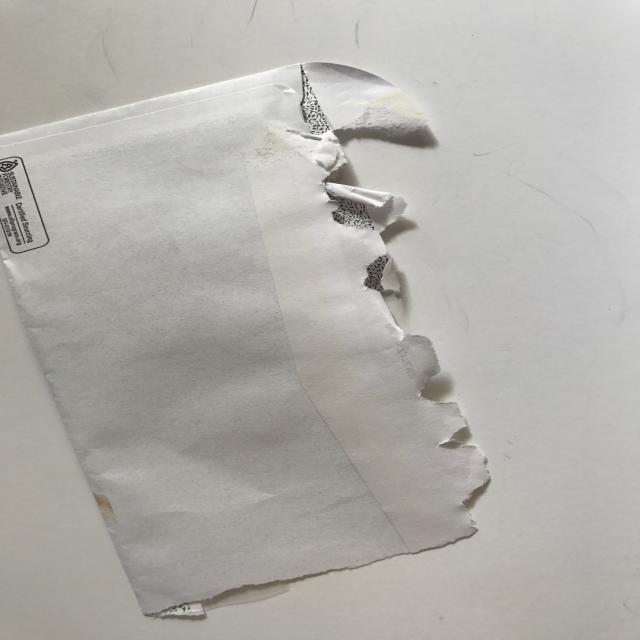paper: (2, 59, 500, 617)
